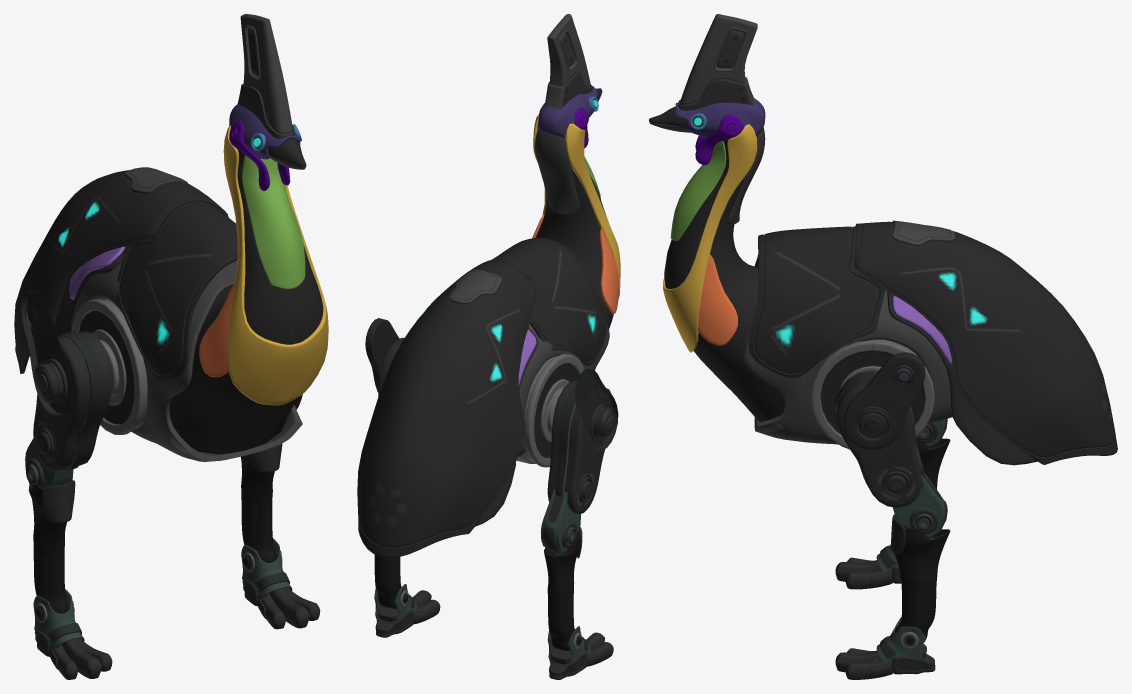
File: Robot.glb
The picture shows the model from 3 angles, left to right: view 1: azimuth 30°, elevation 25°; view 2: azimuth 150°, elevation 25°; view 3: azimuth 270°, elevation 25°; orthographic projection. The views are drawn at different scales.
Visible parts, largest first — view 1: 1.015, 1.021, 1.022, 1.011, 1.027, 1.024, 1.030, 1.034, 1.013, 1.003, 1.025, 1.035 (+14 smaller); view 2: 1.022, 1.021, 1.027, 1.030, 1.034, 1.015, 1.003, 1.025, 1.014, 1.011, 1.036, 1.033 (+8 smaller); view 3: 1.022, 1.021, 1.015, 1.024, 1.003, 1.027, 1.034, 1.030, 1.011, 1.023, 1.025, 1.018 (+11 smaller).
Part boxes in pixels (<box>): 1.015: <box>169,150,323,454</box>; 1.021: <box>116,201,237,379</box>; 1.022: <box>14,167,228,373</box>; 1.011: <box>223,125,328,405</box>; 1.027: <box>33,331,302,471</box>; 1.024: <box>73,260,302,461</box>; 1.030: <box>29,454,276,613</box>; 1.034: <box>72,295,148,434</box>; 1.013: <box>242,155,305,289</box>; 1.003: <box>237,14,295,138</box>; 1.025: <box>21,290,72,415</box>; 1.035: <box>33,538,292,648</box>; 1.022: <box>357,259,536,557</box>; 1.021: <box>492,238,606,365</box>; 1.027: <box>378,337,611,514</box>; 1.030: <box>374,535,580,651</box>; 1.034: <box>516,353,583,467</box>; 1.015: <box>535,130,613,370</box>; 1.003: <box>544,14,592,109</box>; 1.025: <box>365,318,618,450</box>; 1.014: <box>535,132,580,213</box>; 1.011: <box>533,115,620,297</box>; 1.036: <box>375,606,587,679</box>; 1.033: <box>540,489,580,553</box>; 1.022: <box>854,220,1117,464</box>; 1.021: <box>748,226,885,377</box>; 1.015: <box>664,127,784,422</box>; 1.024: <box>743,290,952,444</box>; 1.003: <box>678,14,757,110</box>; 1.027: <box>834,370,924,507</box>; 1.034: <box>810,337,934,449</box>; 1.030: <box>894,437,950,642</box>; 1.011: <box>663,124,757,352</box>; 1.023: <box>887,291,1037,465</box>; 1.025: <box>843,352,925,450</box>; 1.018: <box>697,254,737,345</box>.
Size of the model in its own units: 0.9047 by 2.15 by 1.49.
Materials: 7 (7 with a texture image).
